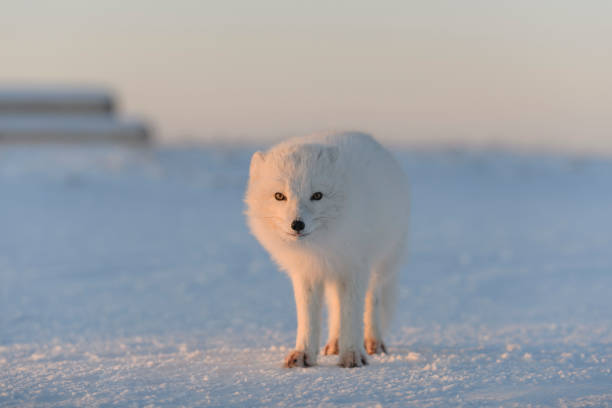arcticfox: (262, 164, 342, 243)
